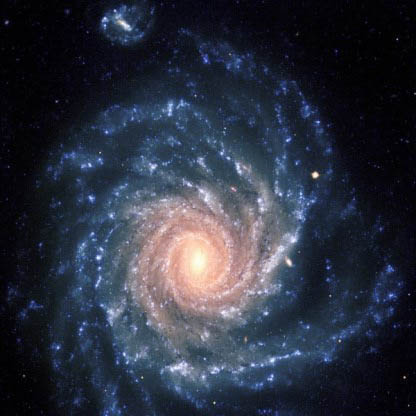NGC 1232: (26, 1, 395, 408)
